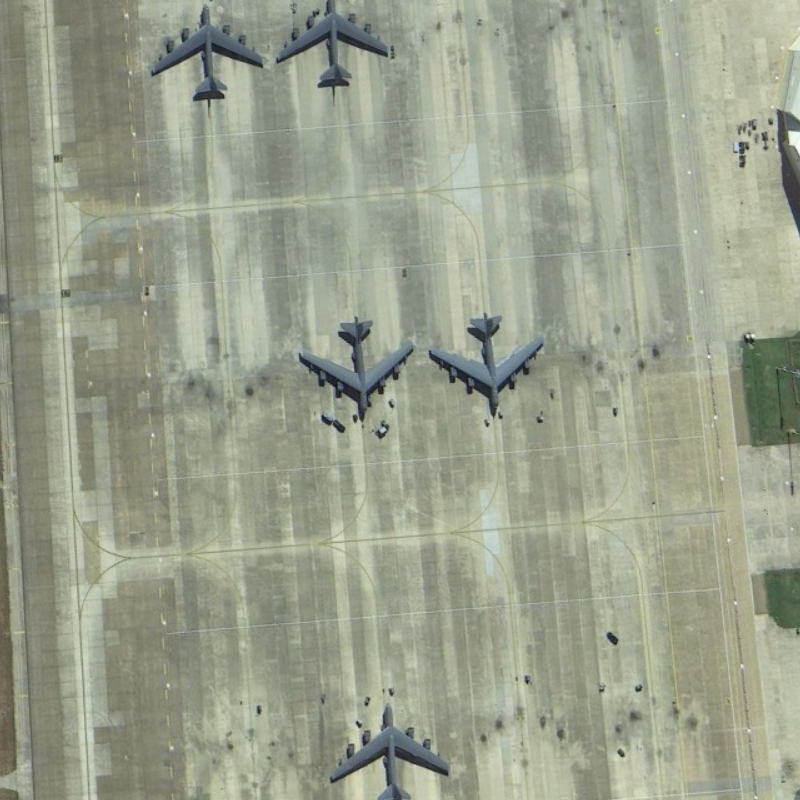A8: (324, 695, 454, 800), (295, 312, 418, 422), (426, 311, 547, 416), (147, 1, 266, 106), (274, 2, 390, 91)
